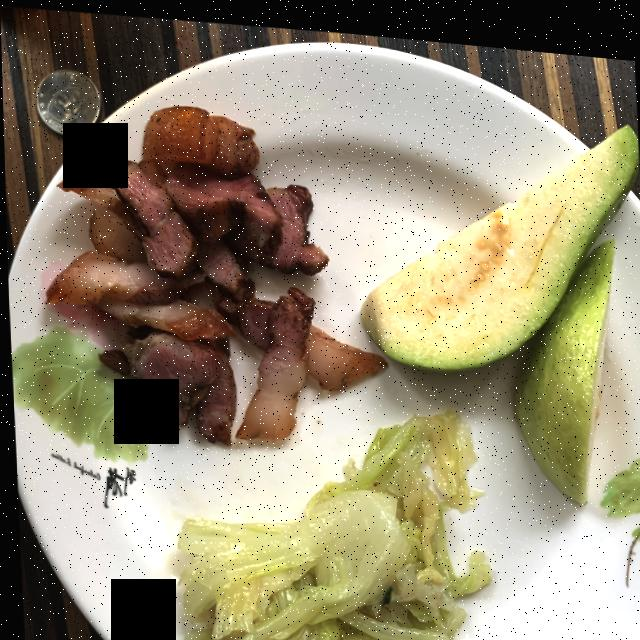cabbage: (175, 400, 486, 640)
coin: (35, 68, 99, 134)
grilled pork: (44, 102, 384, 440)
guava -sliced-: (359, 113, 638, 492)
